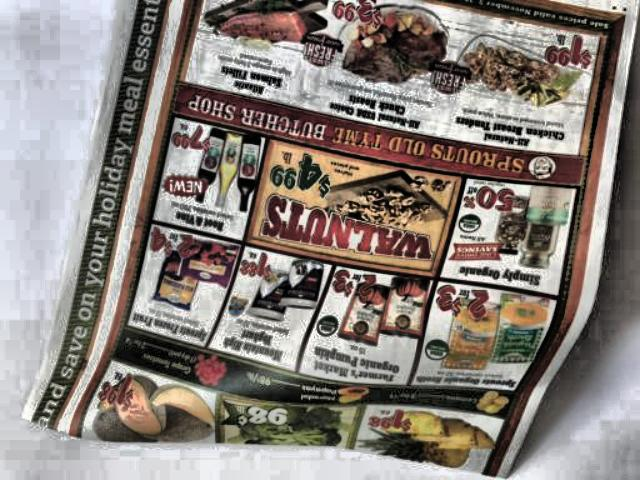Paper: (59, 0, 640, 480)
